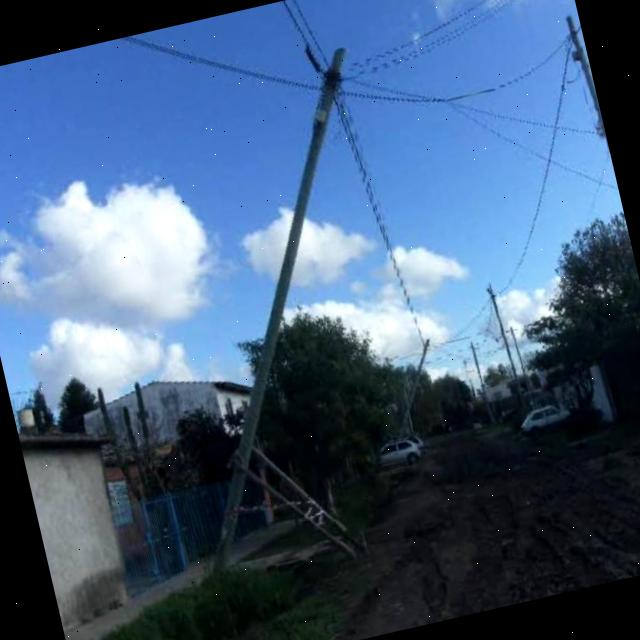Broken Pole: (213, 46, 346, 573), (398, 338, 430, 437)
